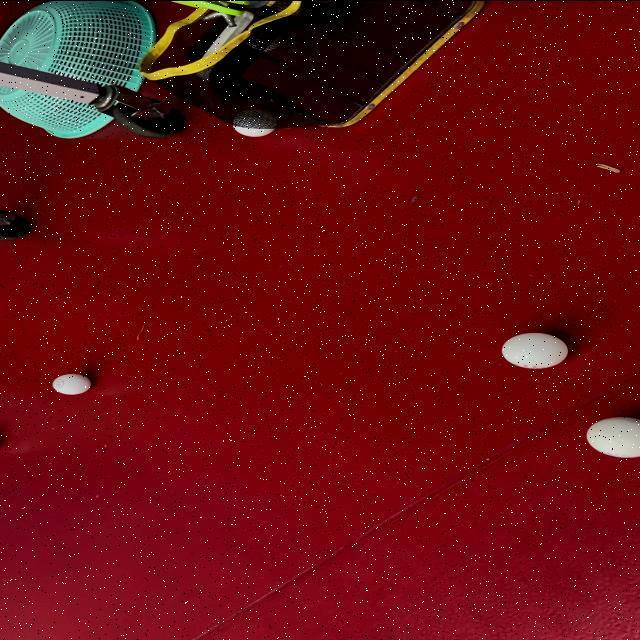ping-pong-ball: (499, 331, 572, 368), (584, 416, 640, 458), (230, 108, 279, 136), (50, 372, 92, 395)
